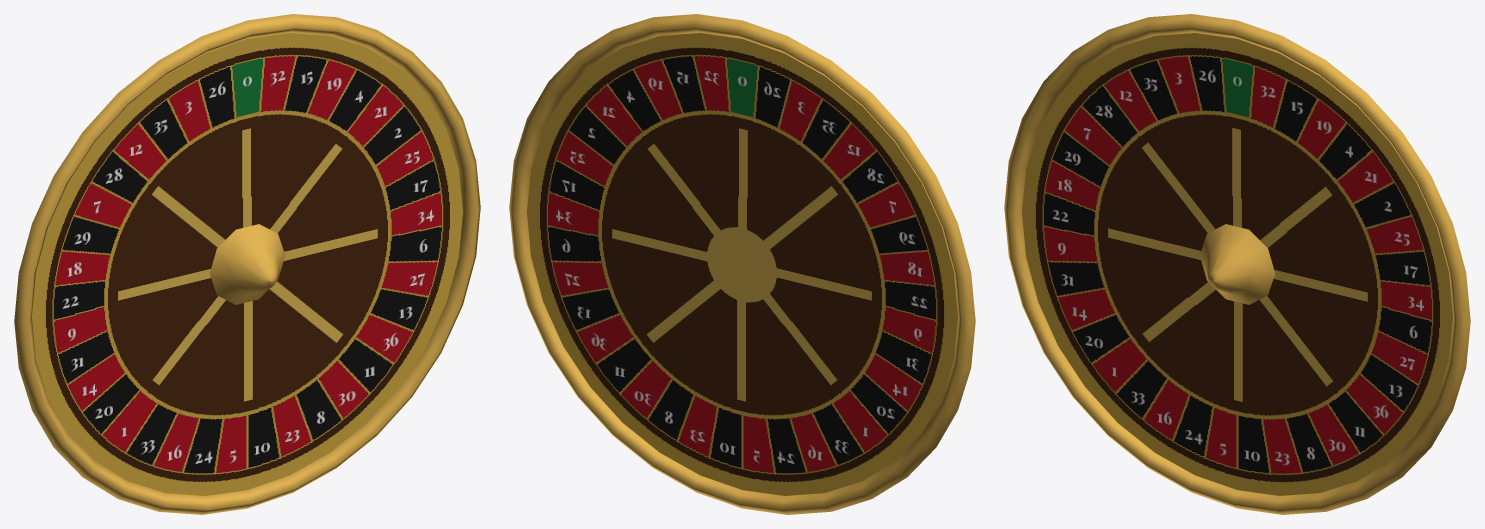
File: roulette.glb
3 views of the same model, side by side, from view 1: azimuth 30°, elevation 25°; view 2: azimuth 150°, elevation 25°; view 3: azimuth 330°, elevation 25° (orthographic).
Parts seen in each view (by area): view 1: roulette_face; view 2: roulette_face; view 3: roulette_face.
Part boxes in pixels (x1,y1,x2,y2): roulette_face: (14,14,480,514); roulette_face: (509,14,975,514); roulette_face: (1004,14,1470,514).
Size of the model in its own units: 3.7 by 3.7 by 0.39.
Materials: 2 (1 with a texture image).
